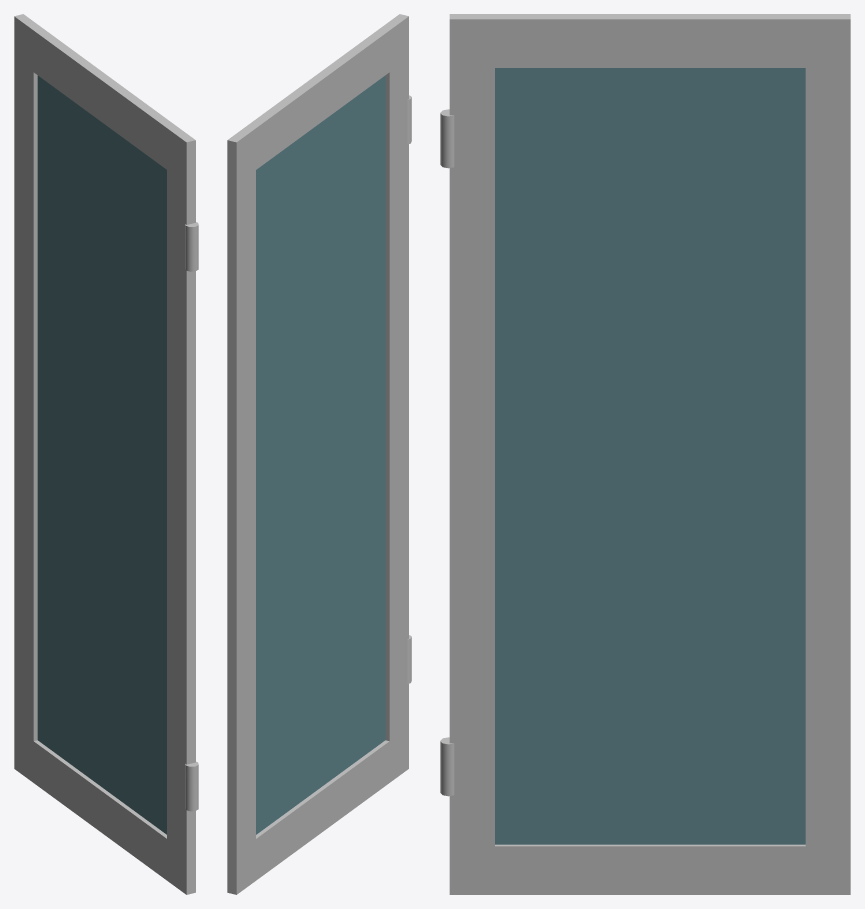
File: SM_Shelf_Door_C_01.fbx
3 views of the same model, side by side, from view 1: azimuth 30°, elevation 25°; view 2: azimuth 150°, elevation 25°; view 3: azimuth 270°, elevation 25° (orthographic). The views are drawn at different scales.
Parts seen in each view (by area): view 1: SM_Shelf_Door_C_01; view 2: SM_Shelf_Door_C_01; view 3: SM_Shelf_Door_C_01.
Boxes of the visible parts, x1,y1,x2,y2 form: SM_Shelf_Door_C_01: [14, 14, 198, 894]; SM_Shelf_Door_C_01: [227, 14, 411, 894]; SM_Shelf_Door_C_01: [440, 14, 850, 894].
Bounding box in the file's own units: 3.26 × 187 × 79.68.
